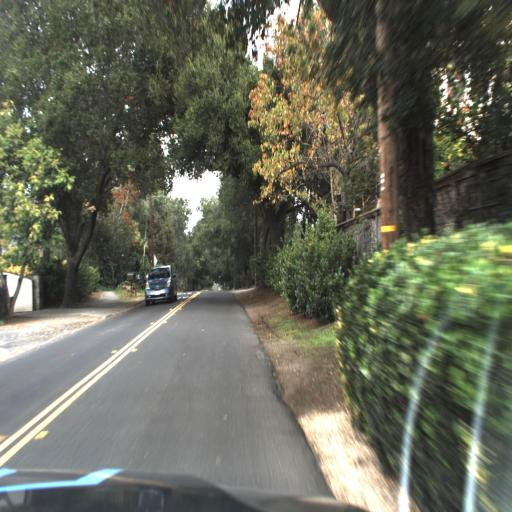car: (140, 259, 178, 304)
